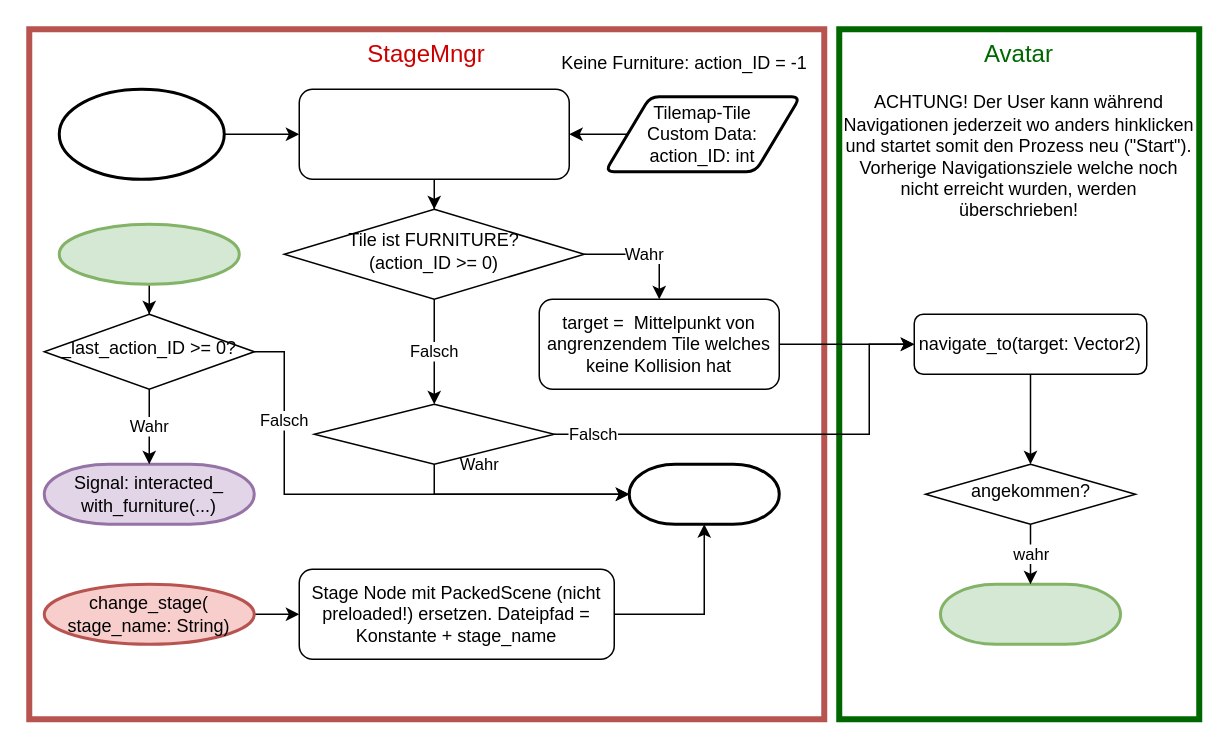
Image size: 1227x747. Some labels were removed from this diagram. Each missing label, with the centre of its shape:
"_on_avatar_arrived" belongs at point 148,253.
"_on_unhandled_input(): _last_action_ID = action_ID" belongs at point 433,133.
"Ende" belongs at point 703,493.
"Signal: arrived" belongs at point 1029,613.
"Start: USER tippt auf Stage-Tile" belongs at point 141,133.
"Tile hat Kollision?" belongs at point 433,433.
